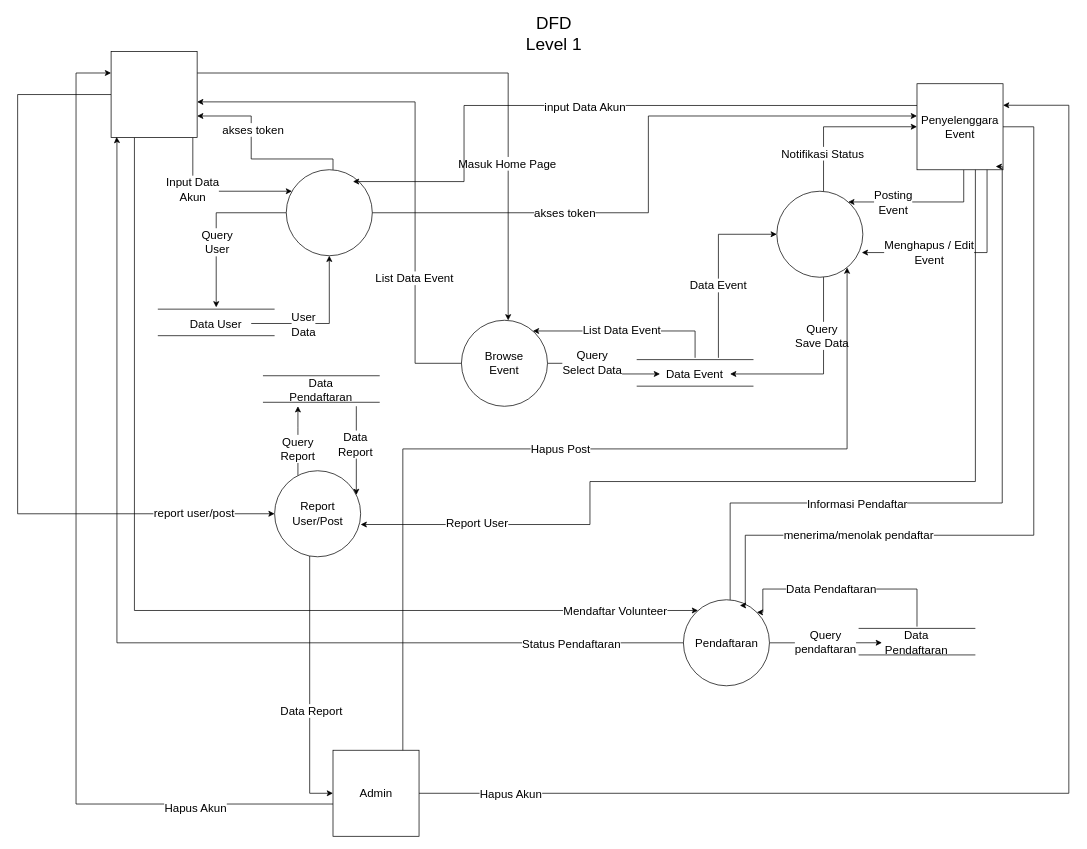
The diagram is 1087 pixels wide and 849 high, and some of its shapes have lost their labels. The shapes that lost their labels are listed below. From the top down, each one's box as (x1, y1, x2, y2) in pixels, then its label:
(110, 51, 197, 138): Mahasiswa
(286, 169, 372, 256): Autentikasi
(776, 191, 863, 277): Kelola Event
